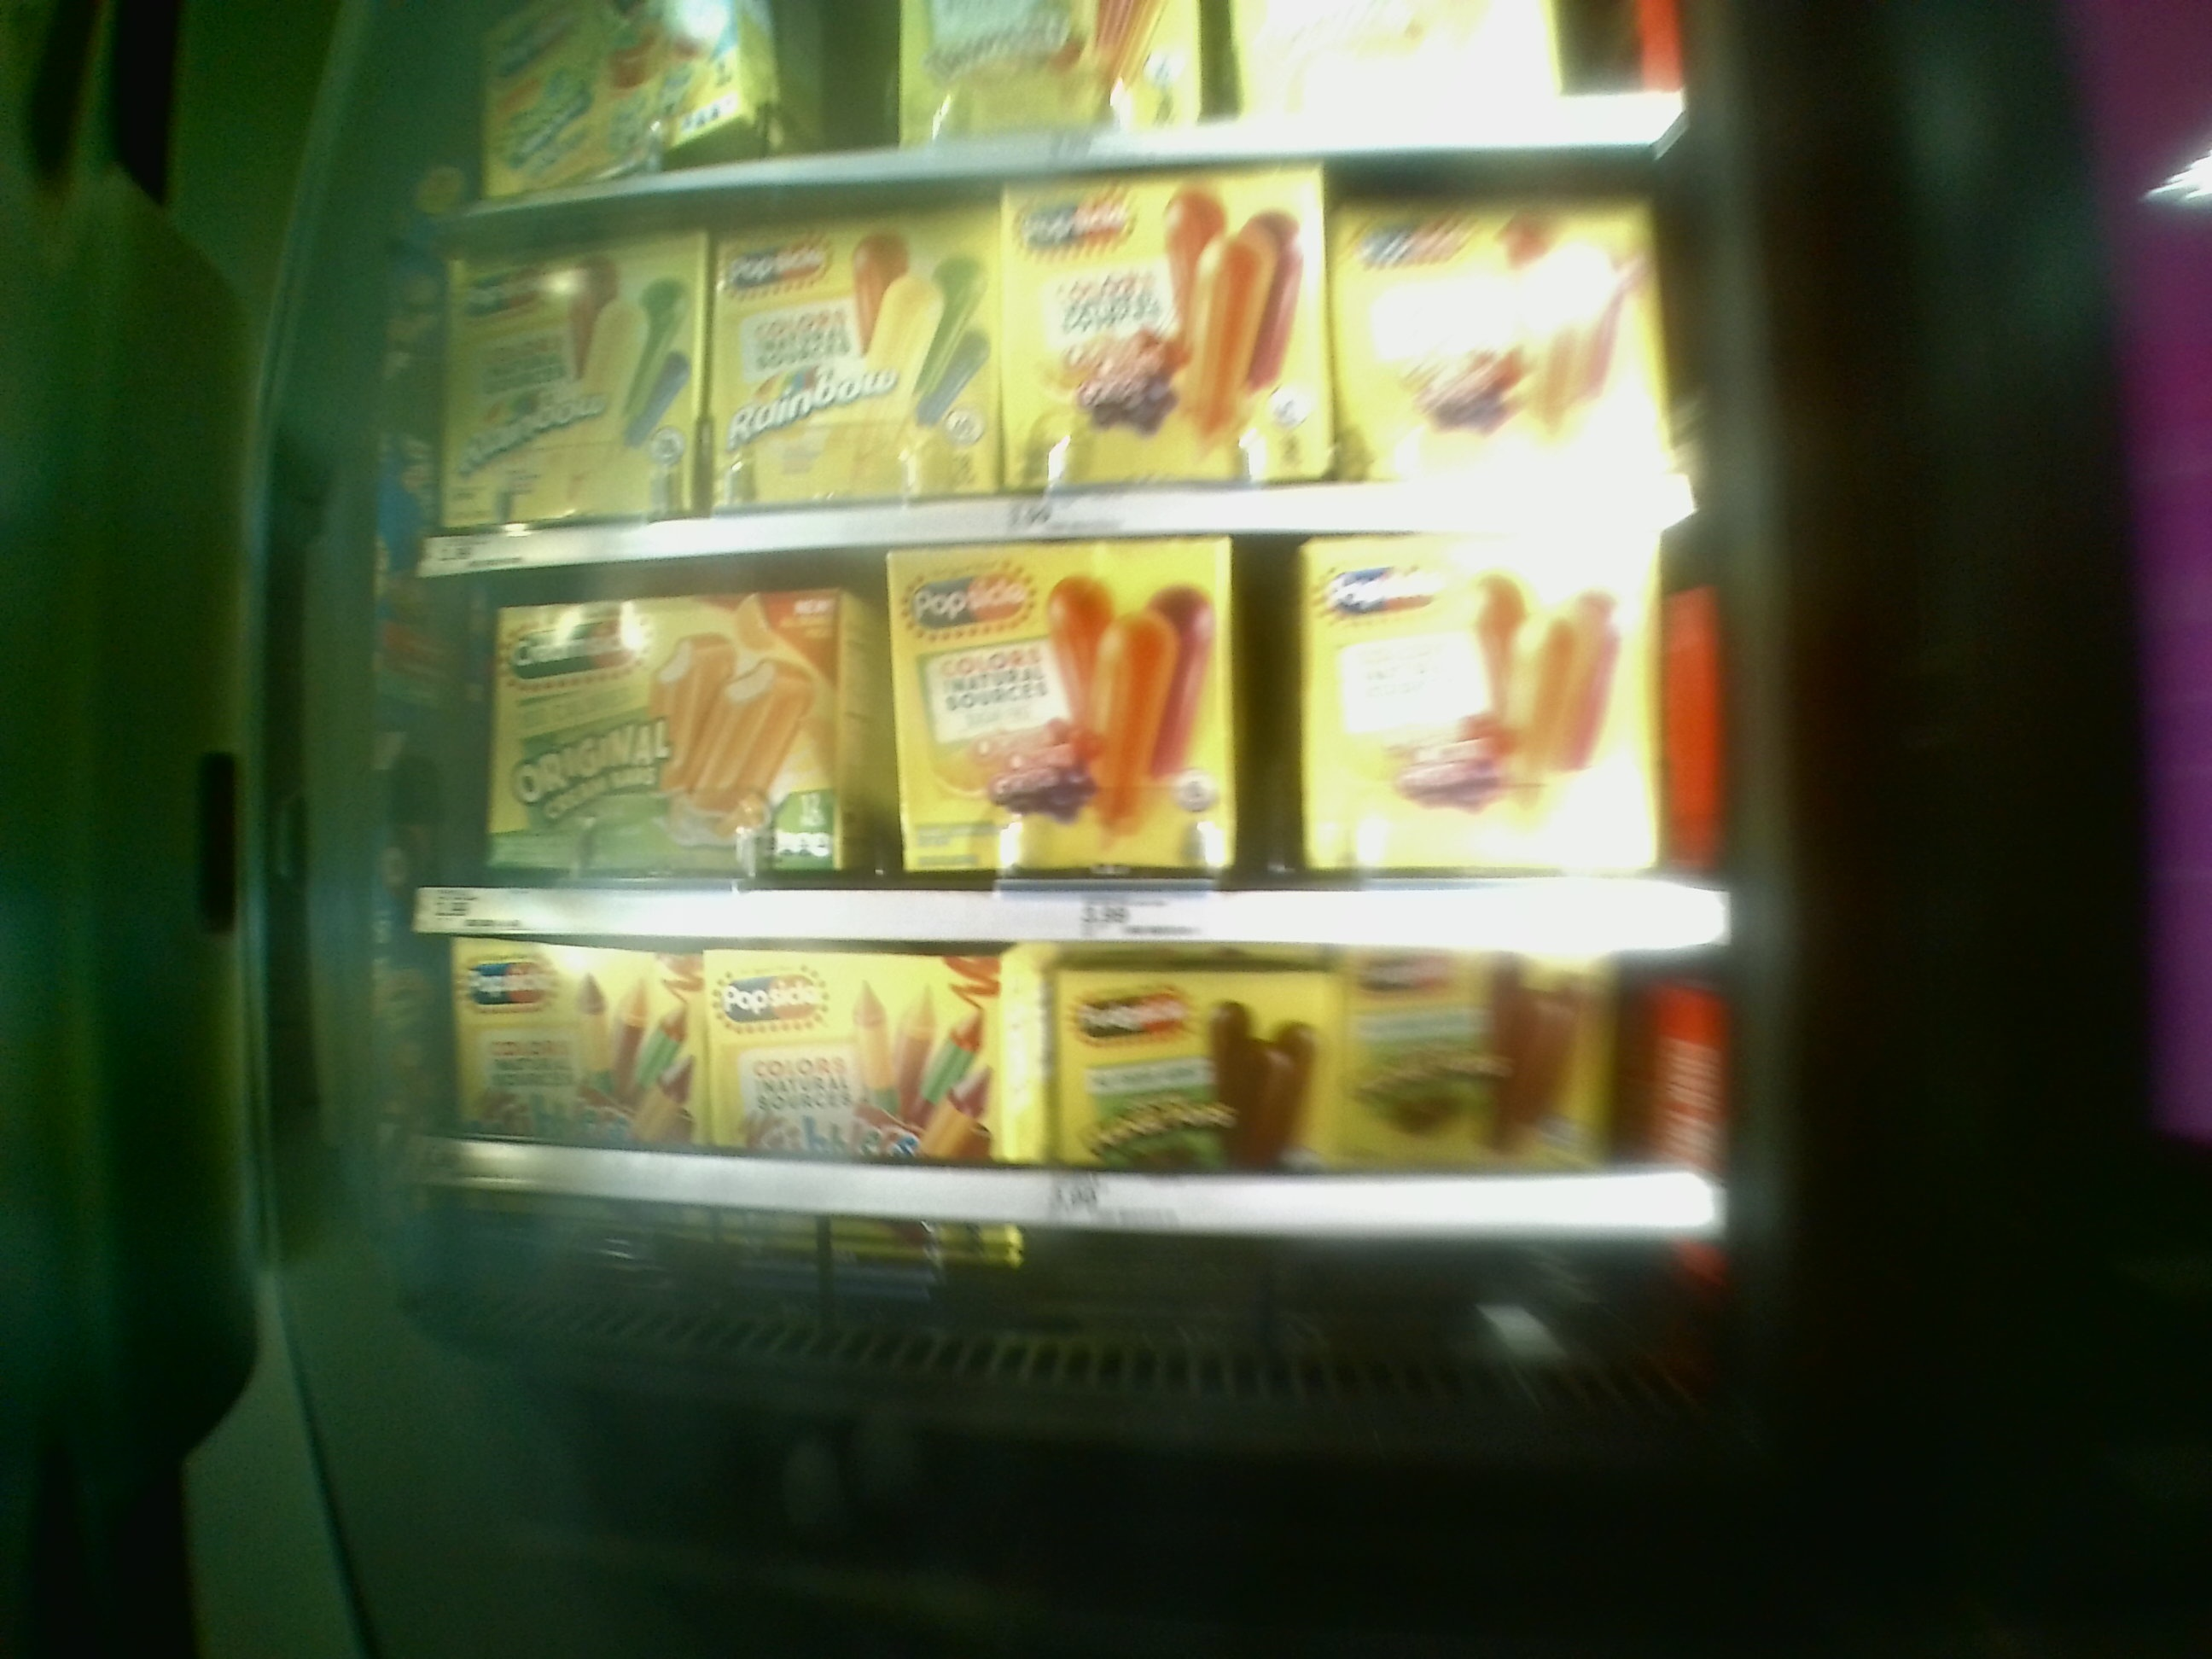frozen-food-shelf: (413, 551, 1728, 938)
